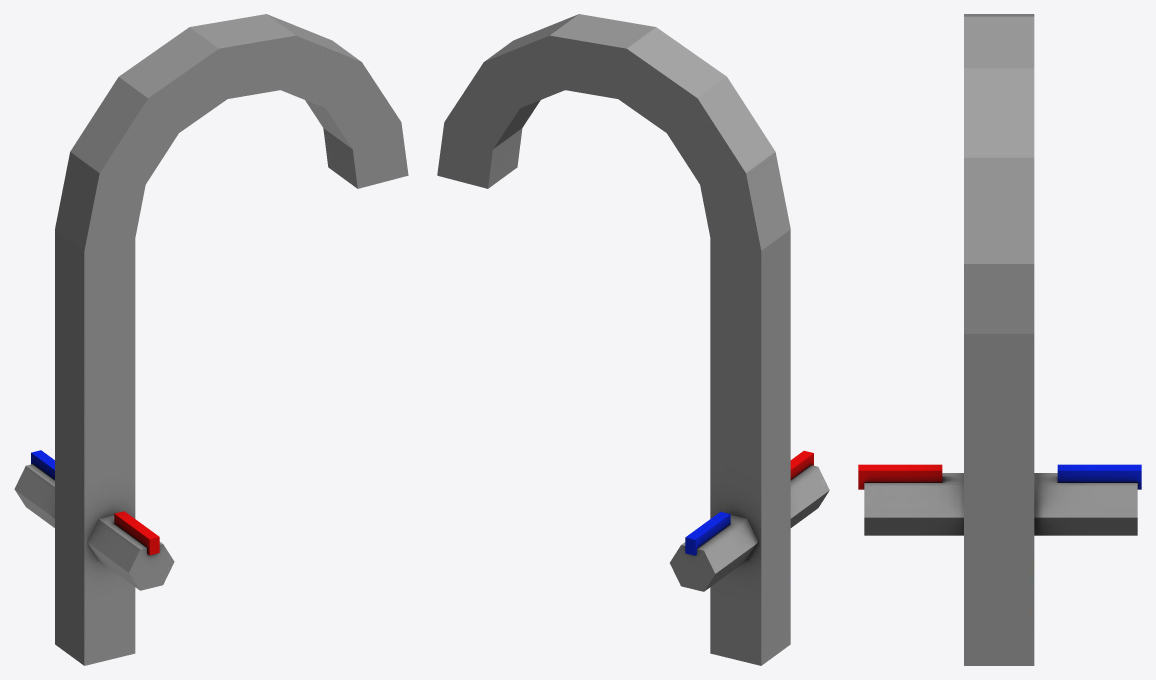
The model's file is tap.dae.
3 views of the same model, side by side, from view 1: azimuth 30°, elevation 25°; view 2: azimuth 150°, elevation 25°; view 3: azimuth 270°, elevation 25° (orthographic). The views are drawn at different scales.
Parts seen in each view (by area): view 1: Cube1_Cylinder, Cylinder_Cylinder, Cube_3_Cylinder; view 2: Cube1_Cylinder, Cylinder_Cylinder, Cube_4_Cylinder; view 3: Cube1_Cylinder, Cylinder_Cylinder, Cube_3_Cylinder, Cube_4_Cylinder.
Part boxes in pixels (left/top/right/bottom): Cube1_Cylinder: left=55, top=14, right=408, bottom=665; Cylinder_Cylinder: left=14, top=464, right=174, bottom=590; Cube_3_Cylinder: left=114, top=511, right=159, bottom=555; Cube1_Cylinder: left=437, top=14, right=790, bottom=665; Cylinder_Cylinder: left=670, top=465, right=829, bottom=591; Cube_4_Cylinder: left=685, top=511, right=730, bottom=555; Cube1_Cylinder: left=964, top=14, right=1034, bottom=665; Cylinder_Cylinder: left=864, top=473, right=1137, bottom=535; Cube_3_Cylinder: left=858, top=464, right=942, bottom=489; Cube_4_Cylinder: left=1057, top=464, right=1141, bottom=489.
Size of the model in its own units: 3.19 by 2.02 by 5.49.
Materials: 4 (4 with a texture image).
